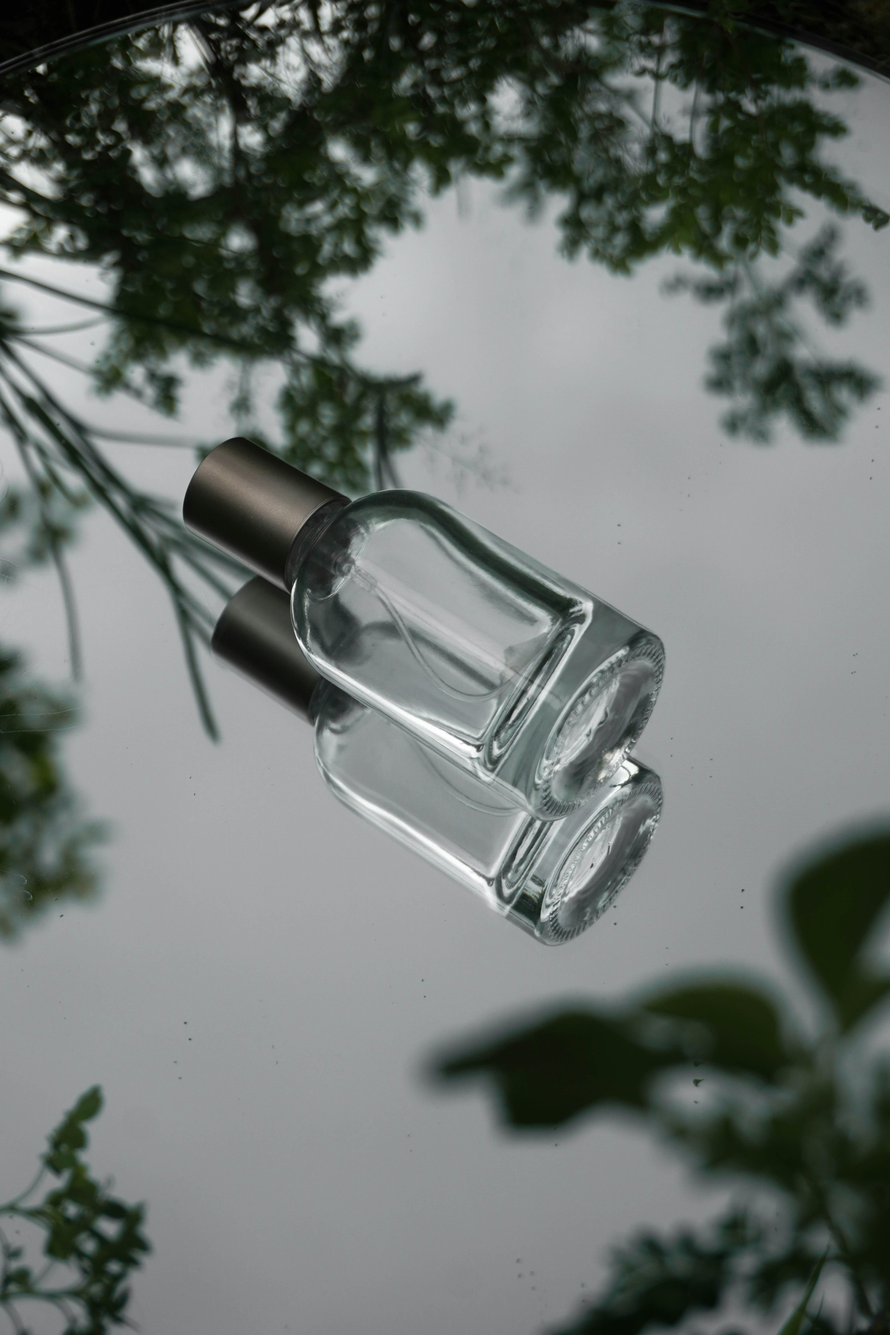Bottle-Detection: (142, 396, 708, 848)
